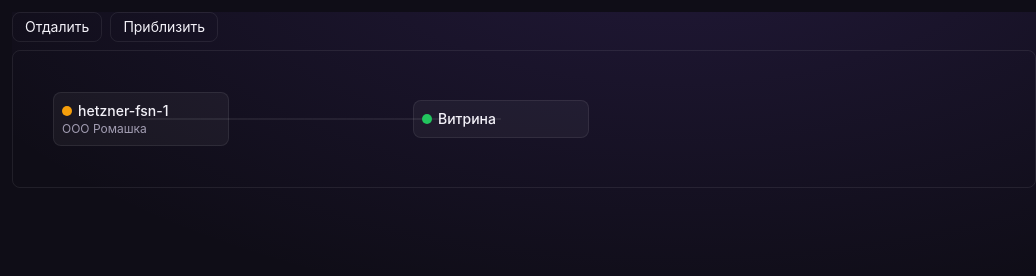
карта размещения › выделение узла подсвечивает его рёбра и открывает панель
Click the button with aria-label "Сервер hetzner-fsn-1".
click(141, 119)  # box [53,92,229,146]
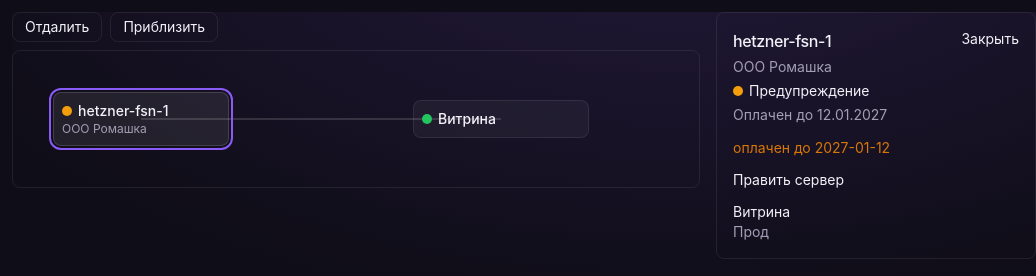
expect the element that starts with "hetzner-fsn-1" is shown: met, box [733,31,831,51]
